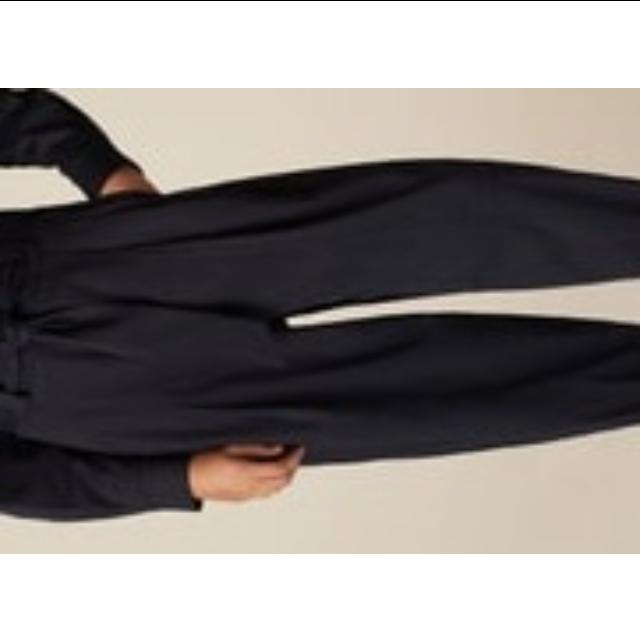cotton: (0, 168, 640, 440)
